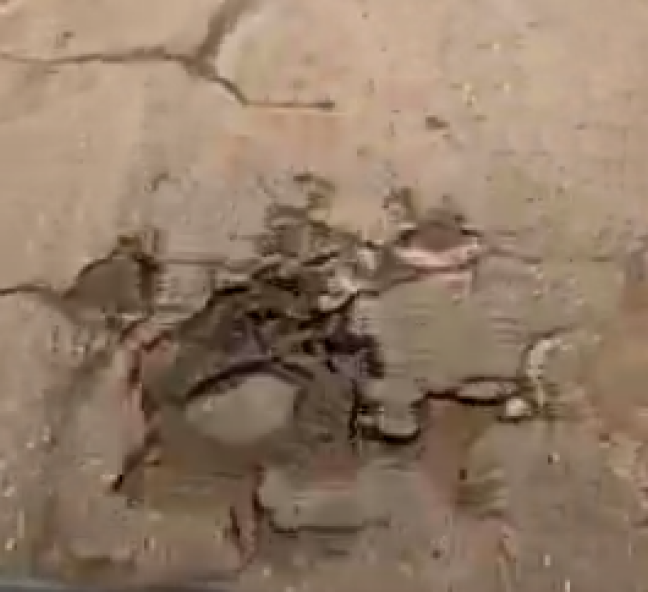Berlubang: (36, 182, 573, 574)
